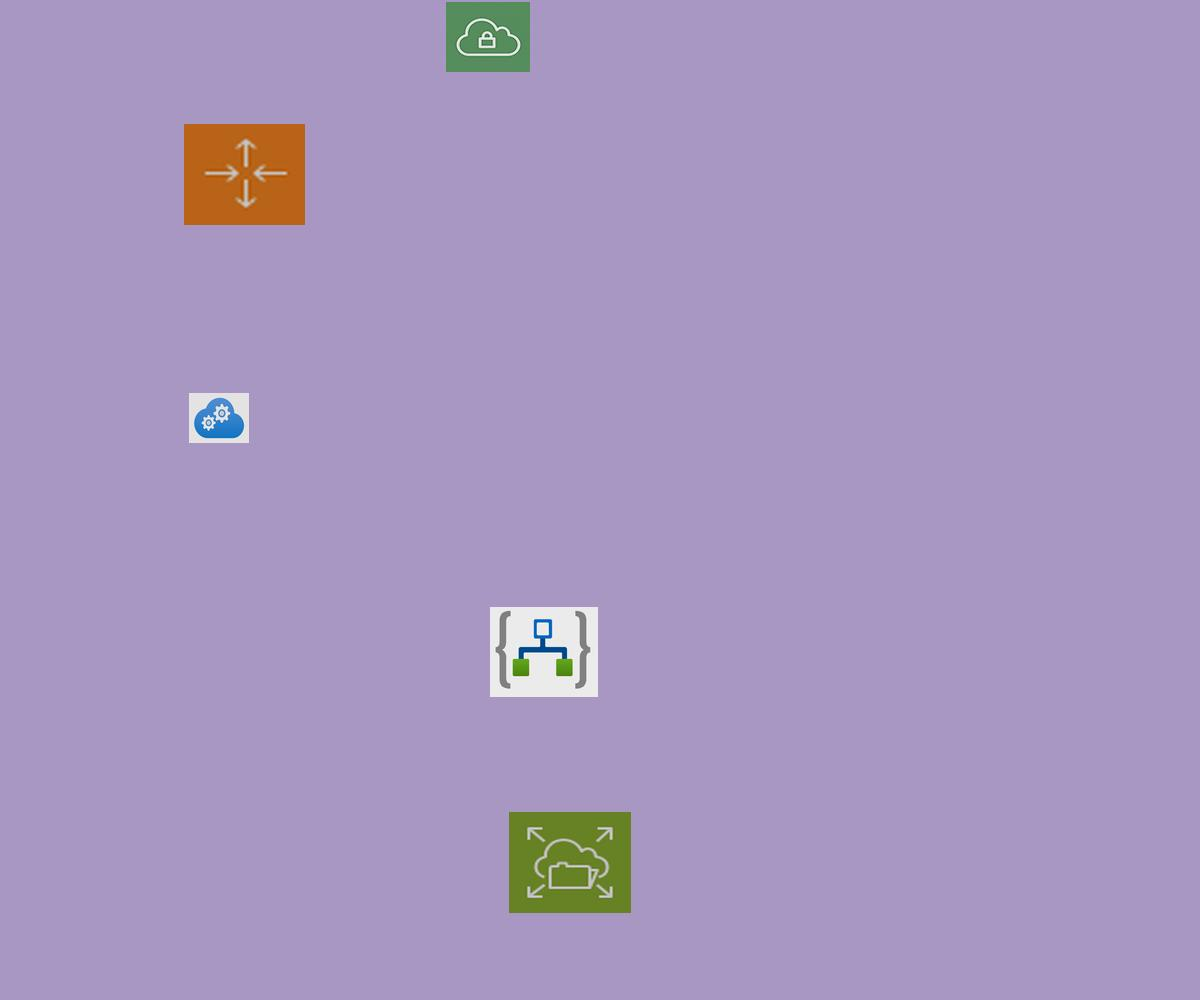AWS-EFS: (509, 812, 631, 913)
AWS-Private_vpc: (446, 2, 530, 72)
AWS-Scaling-group: (184, 124, 305, 225)
Azure_cloud_services: (189, 393, 249, 443)
Azure_integration-204-Logic-Apps: (490, 607, 598, 697)
